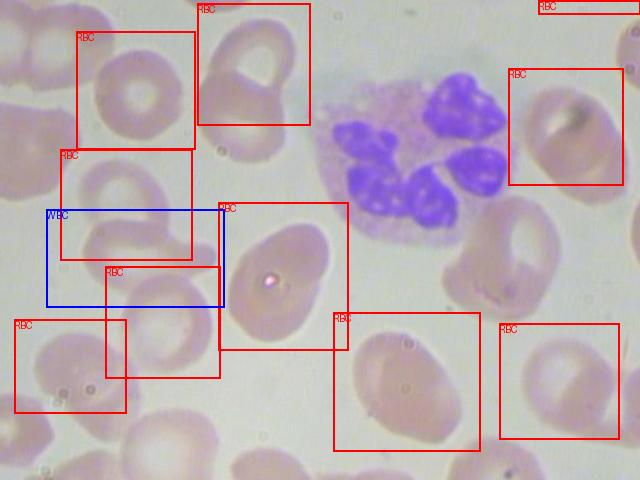RBC: (333, 312, 480, 451), (218, 202, 348, 350), (60, 149, 192, 260), (76, 31, 195, 149), (499, 323, 619, 439), (197, 3, 310, 125), (508, 68, 623, 185), (105, 266, 220, 378), (14, 319, 126, 413), (538, 0, 640, 14)
WBC: (46, 209, 224, 307)
